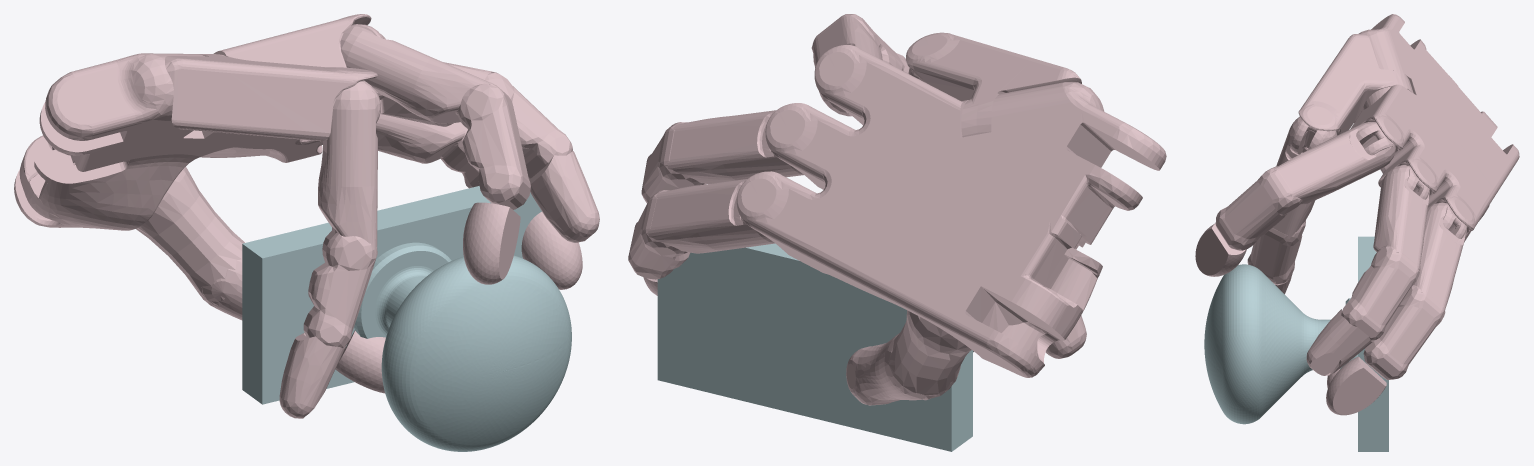
File: grasp_7.glb
The picture shows the model from 3 angles, left to right: view 1: azimuth 30°, elevation 25°; view 2: azimuth 150°, elevation 25°; view 3: azimuth 270°, elevation 25°; orthographic projection. The views are drawn at different scales.
Visible parts, largest first — view 1: world; view 2: world; view 3: world.
Part boxes in pixels (x1,y1,x2,y2): world: [14, 14, 599, 451]; world: [628, 14, 1166, 451]; world: [1195, 14, 1519, 451].
Size of the model in its own units: 0.1813 by 0.1333 by 0.1318.
